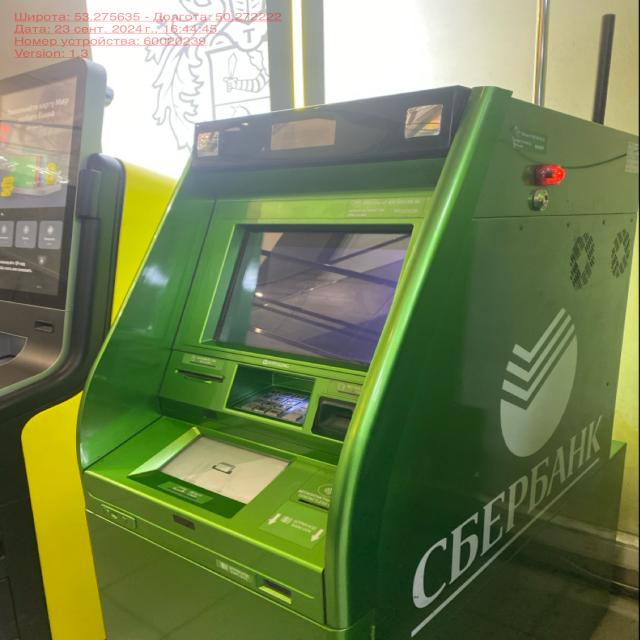bank: (79, 83, 640, 640)
